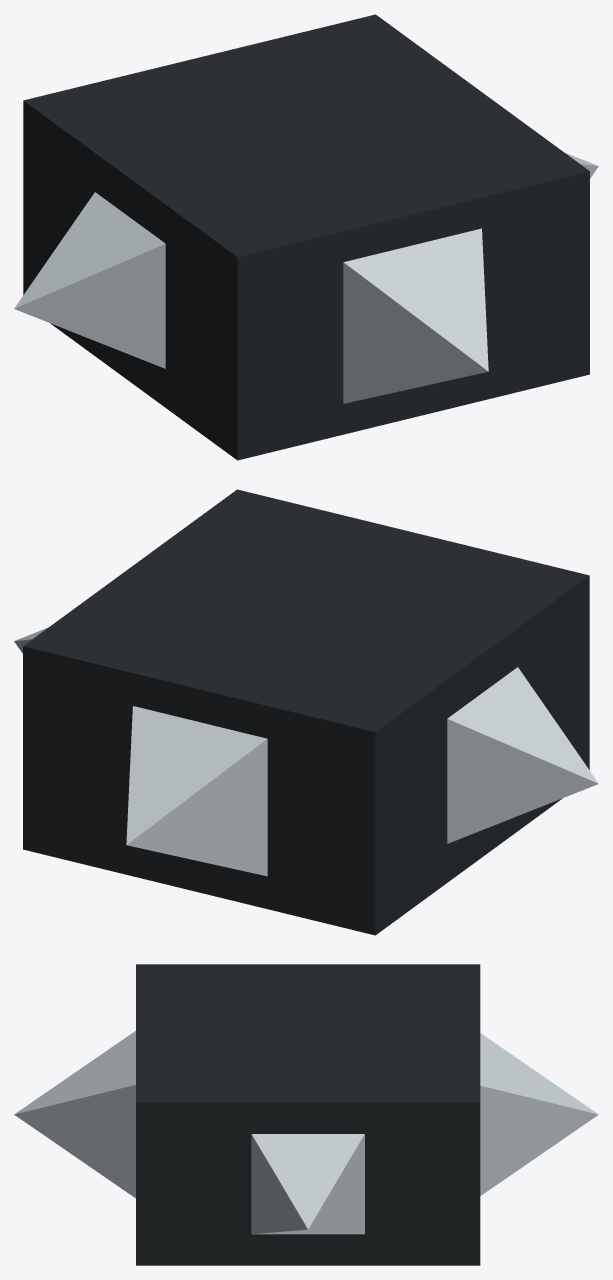
The model's file is Bracer 01.FBX.
3 views of the same model, one above another, from view 1: azimuth 30°, elevation 25°; view 2: azimuth 150°, elevation 25°; view 3: azimuth 270°, elevation 25° (orthographic). The views are drawn at different scales.
Visible parts, largest first — view 1: Bracer 01; view 2: Bracer 01; view 3: Bracer 01.
Part boxes in pixels (x1=…): Bracer 01: x1=14, y1=14, x2=598, y2=460; Bracer 01: x1=14, y1=489, x2=598, y2=935; Bracer 01: x1=14, y1=964, x2=598, y2=1265.
Bounding box in the file's own units: 28.65 × 9.51 × 30.88.
Materials: 1 (1 with a texture image).
